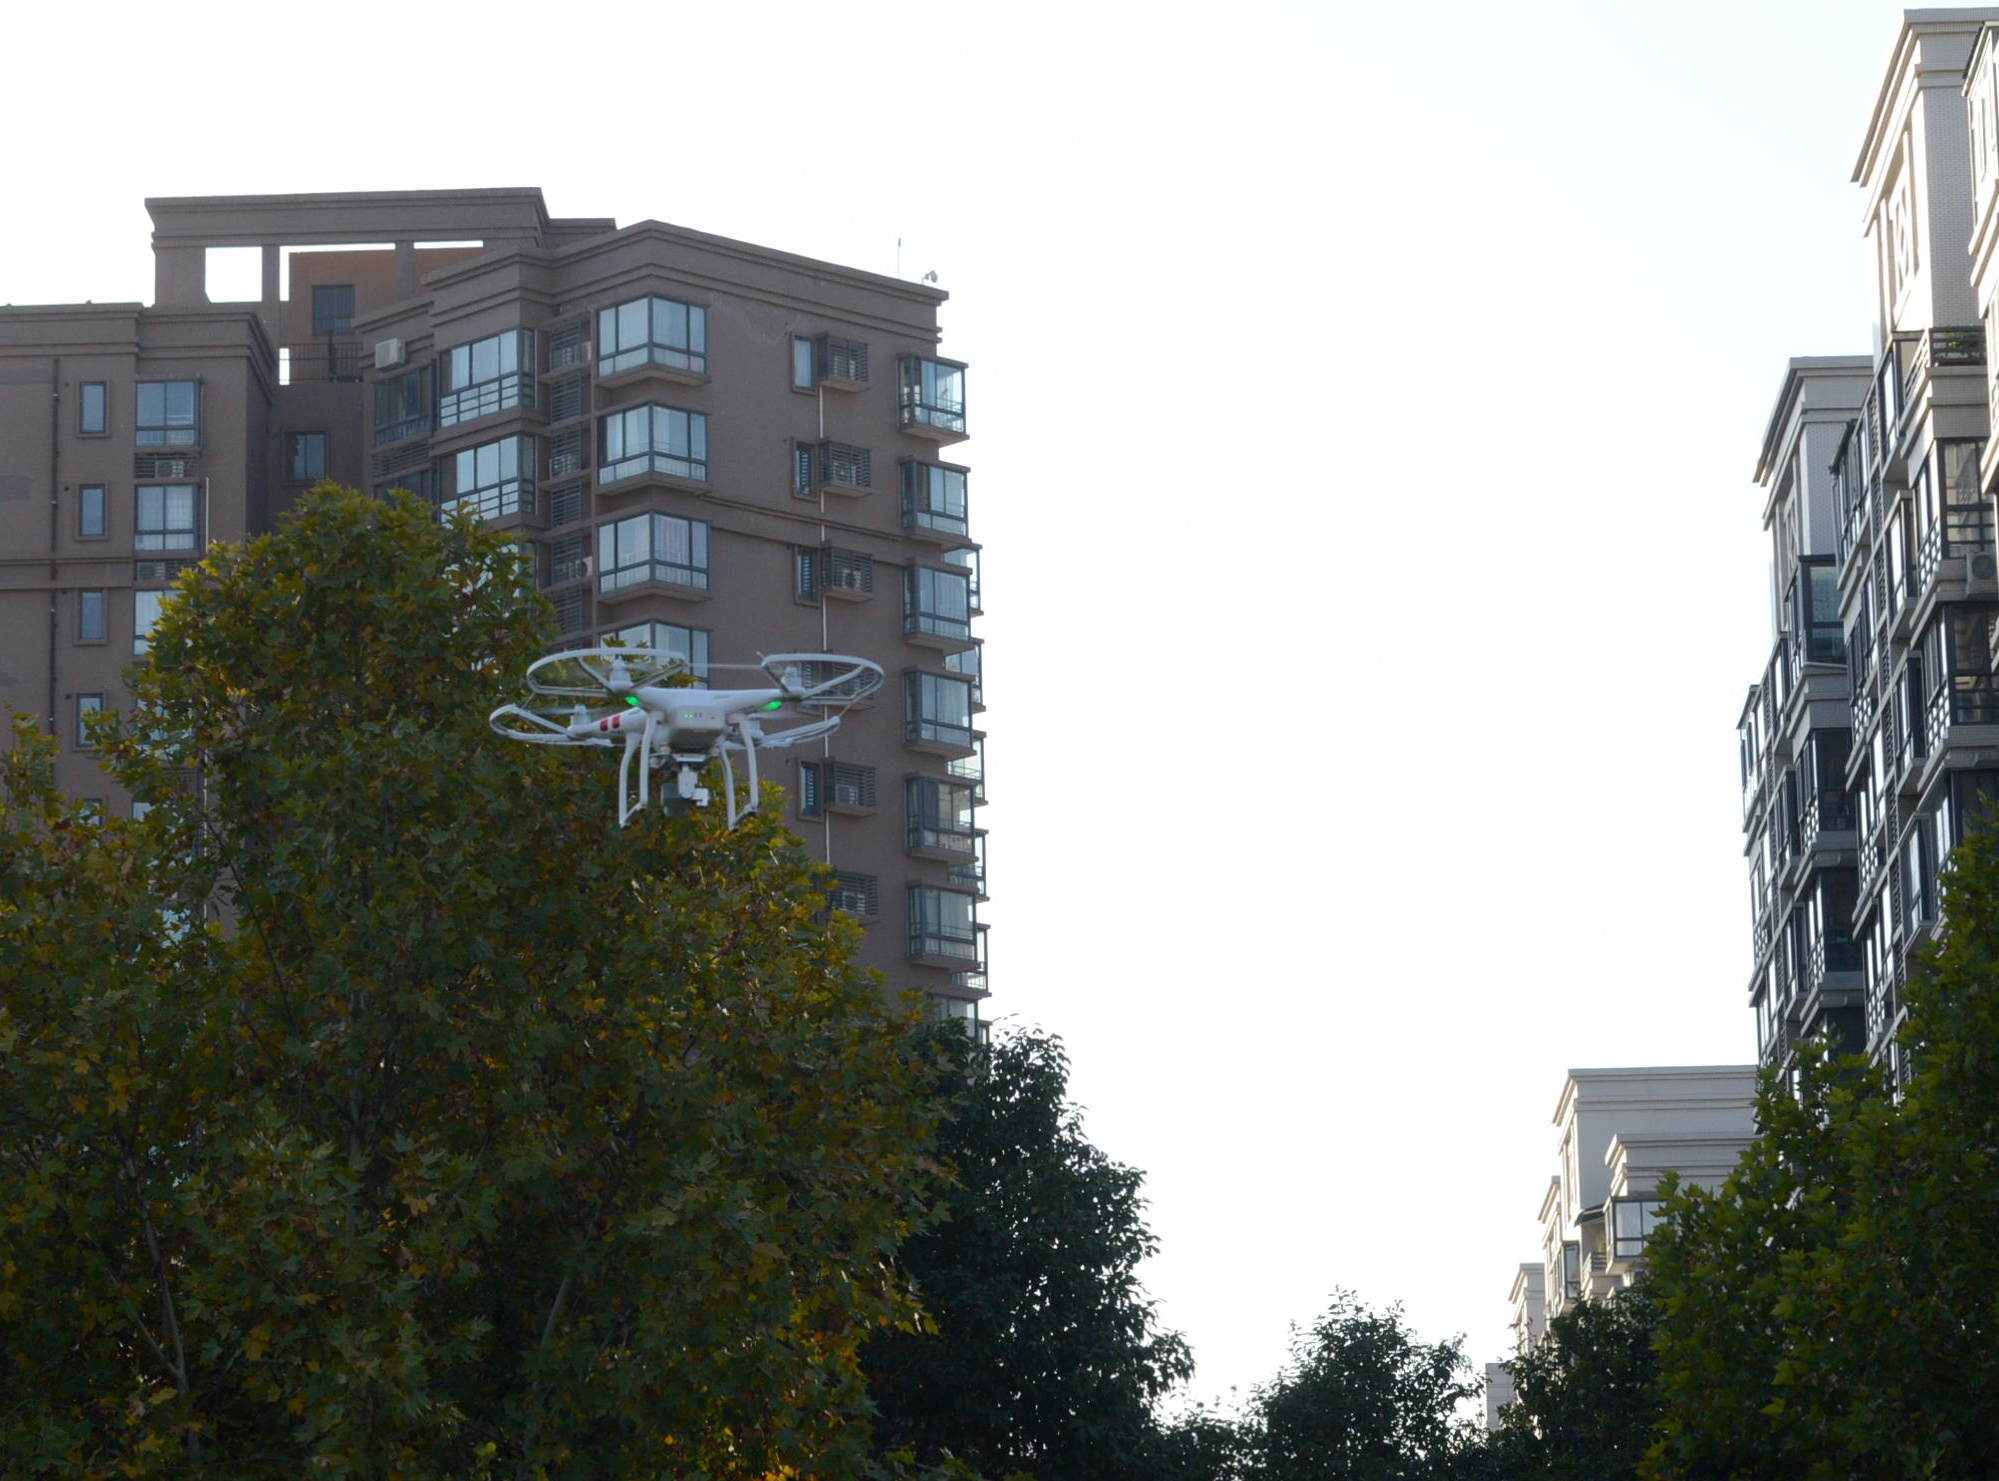DJI: (490, 646, 891, 834)
